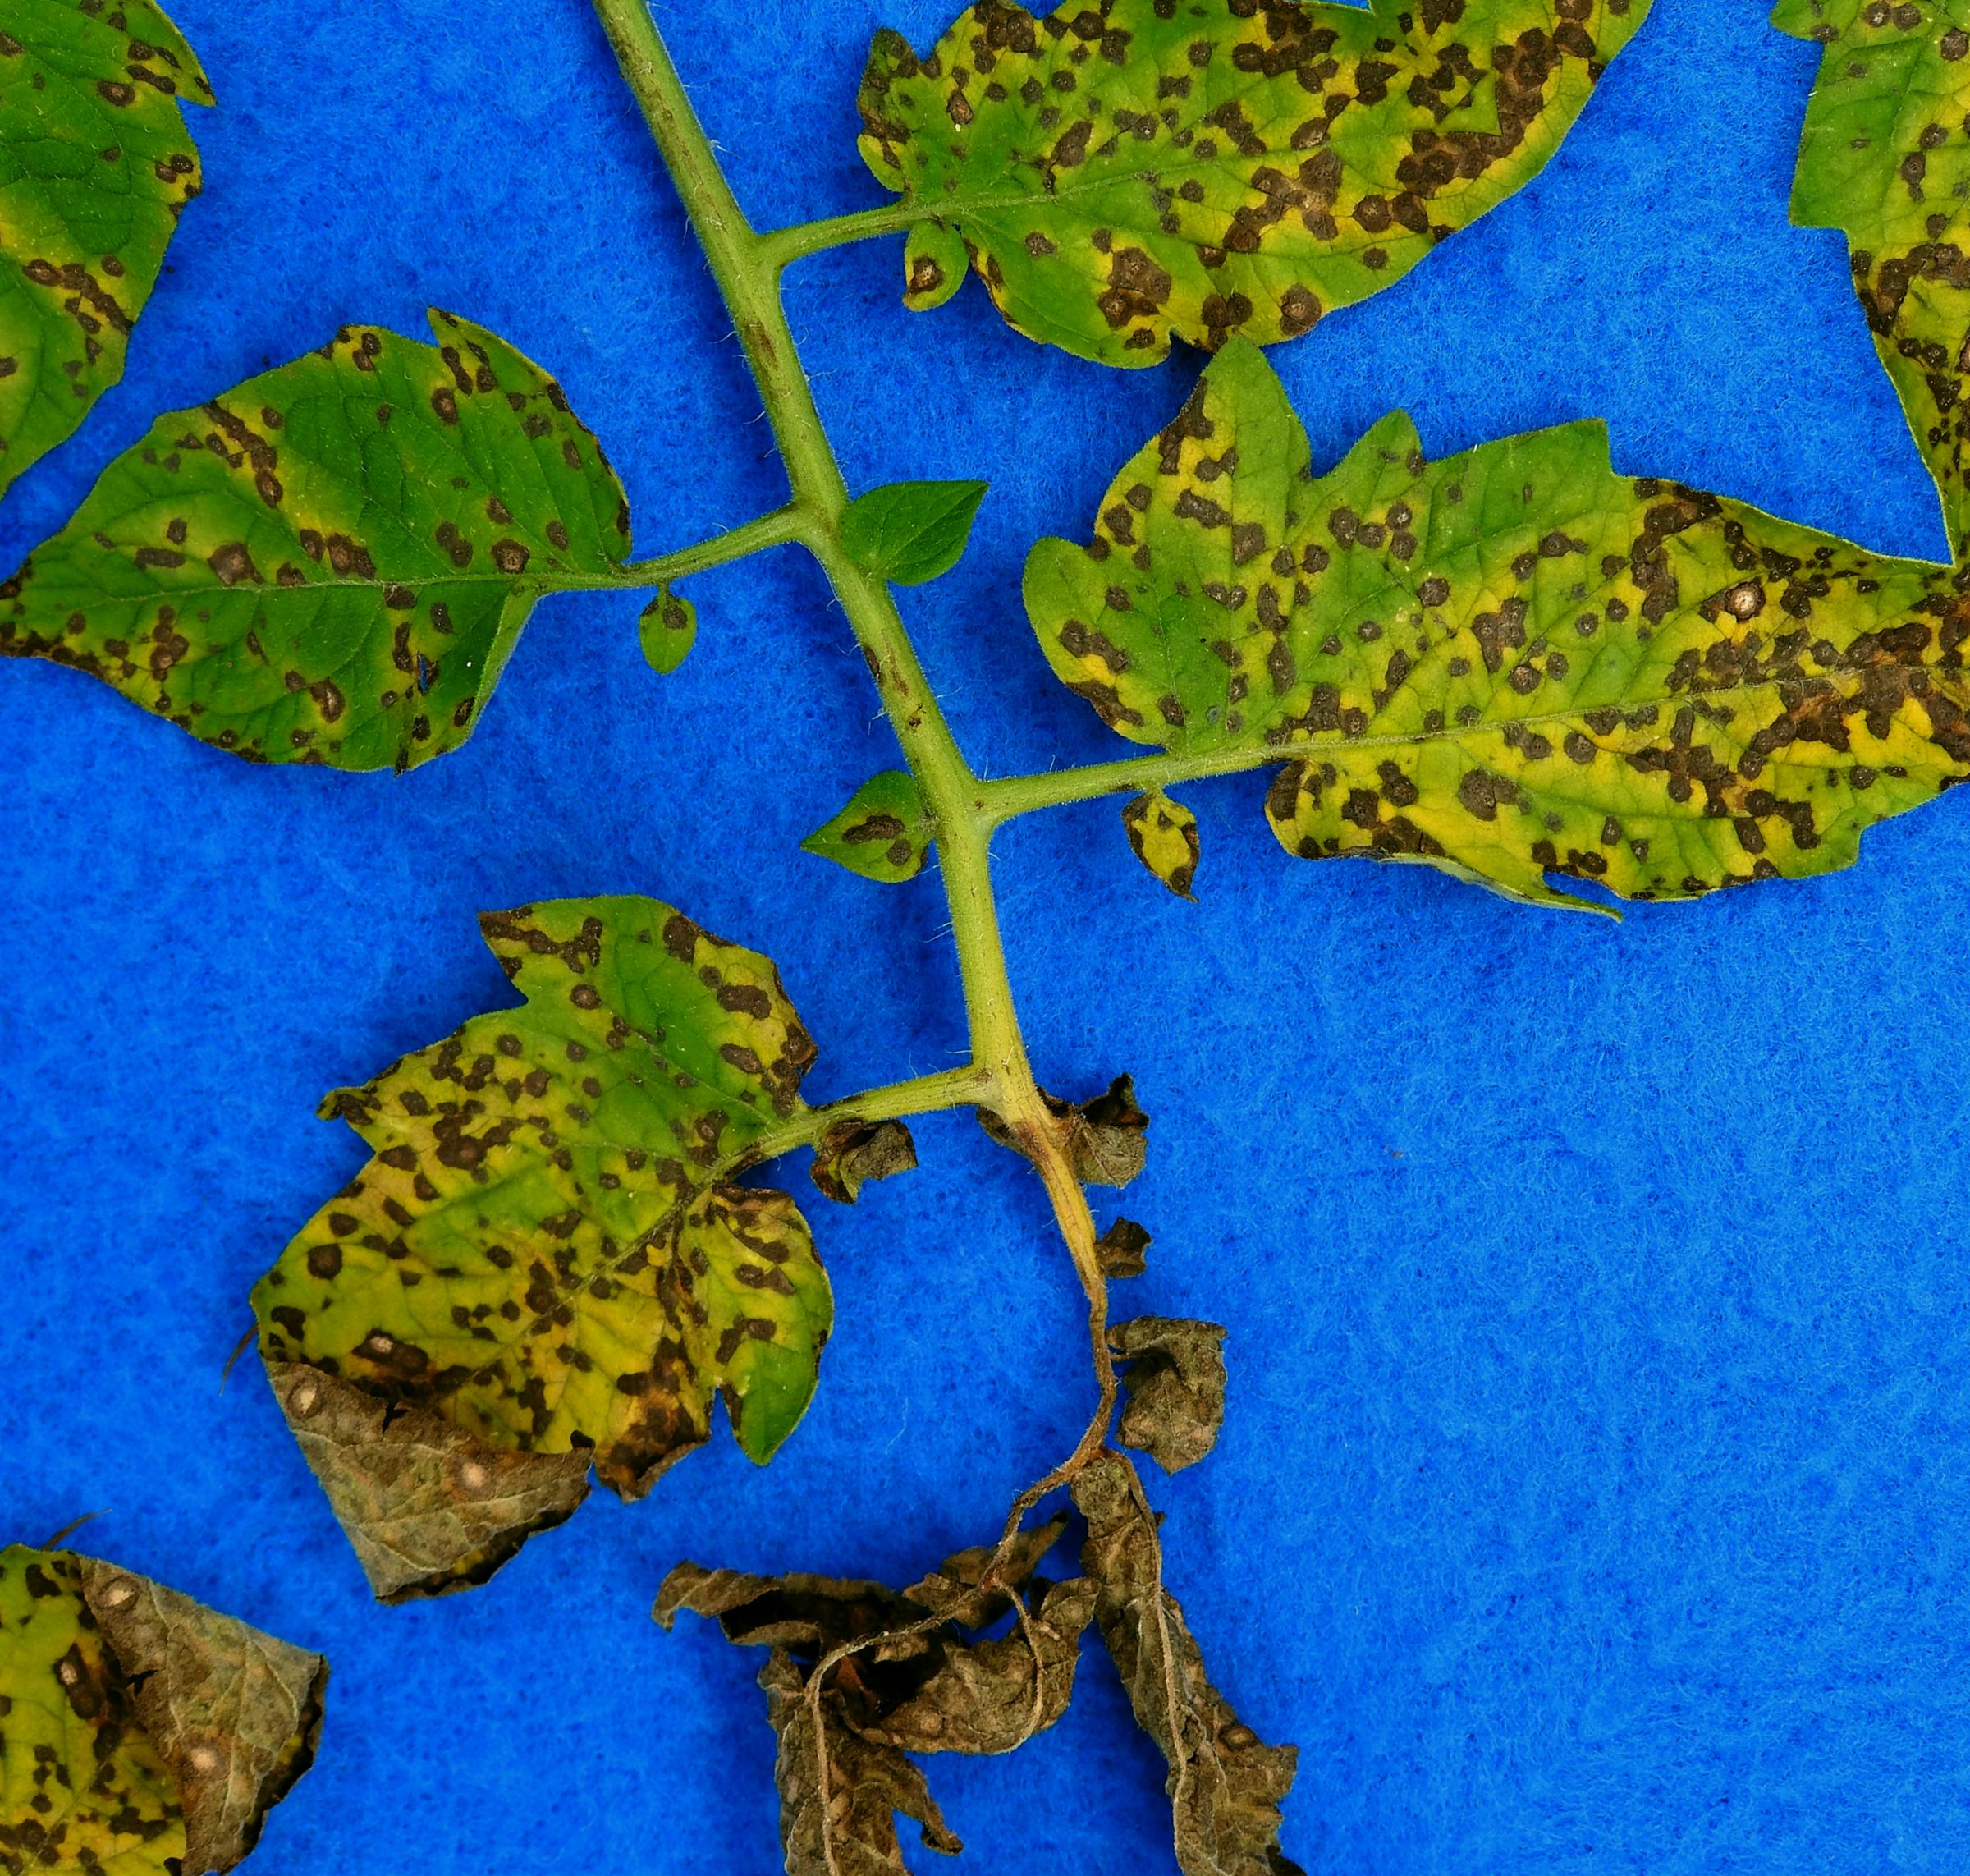Tomato Septoria leaf spot: (943, 100, 1970, 1306), (65, 801, 1052, 1792), (0, 137, 756, 1005), (758, 0, 1536, 561)
